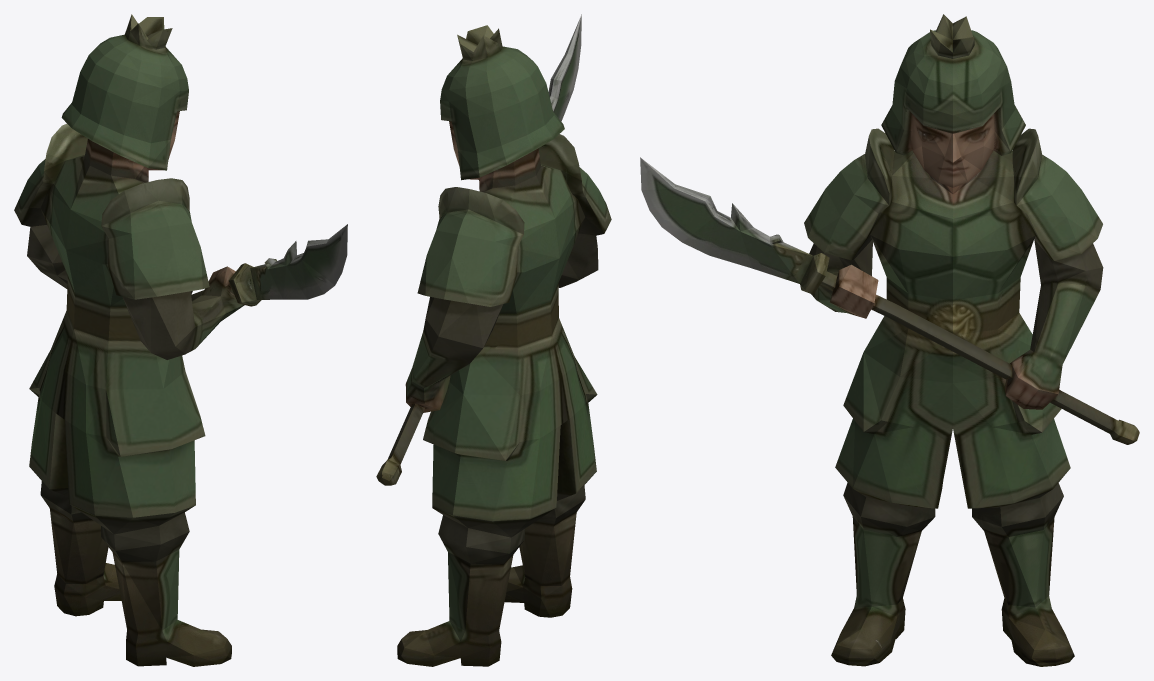
File: unit.glb
3 views of the same model, side by side, from view 1: azimuth 30°, elevation 25°; view 2: azimuth 150°, elevation 25°; view 3: azimuth 270°, elevation 25° (orthographic). The views are drawn at different scales.
Visible parts, largest first — view 1: tripo_node_fe197fbc-e941-47c3-b370-7455ddaf9816; view 2: tripo_node_fe197fbc-e941-47c3-b370-7455ddaf9816; view 3: tripo_node_fe197fbc-e941-47c3-b370-7455ddaf9816.
Boxes of the visible parts, x1,y1,x2,y2 form: tripo_node_fe197fbc-e941-47c3-b370-7455ddaf9816: (14, 14, 347, 666); tripo_node_fe197fbc-e941-47c3-b370-7455ddaf9816: (376, 14, 611, 666); tripo_node_fe197fbc-e941-47c3-b370-7455ddaf9816: (640, 14, 1139, 666).
Size of the model in its own units: 0.2363 by 0.998 by 0.7207.
1 material, 1 textured.
